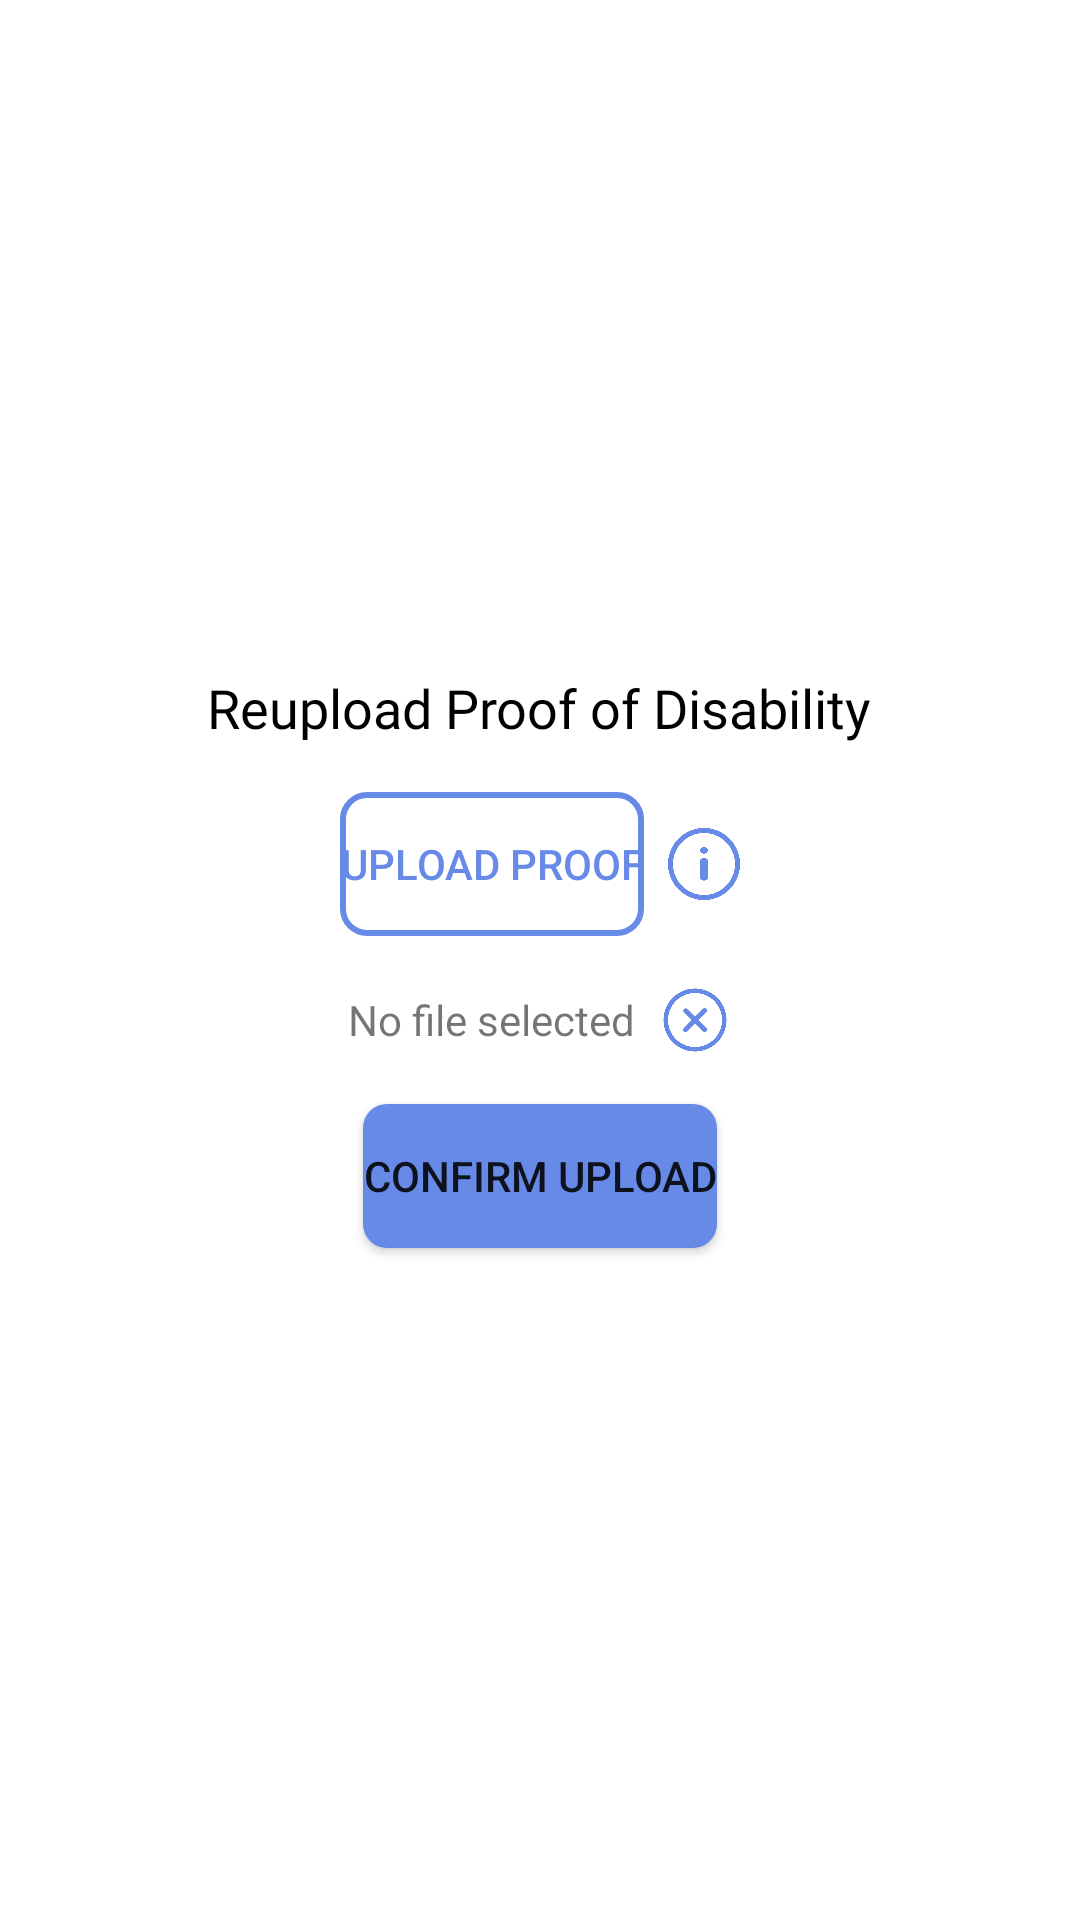

Point at icon controls on the screen. Image size 1080*1920, points as (x=x, y=y).
Info: (x=704, y=864)
Remove: (x=695, y=1020)
